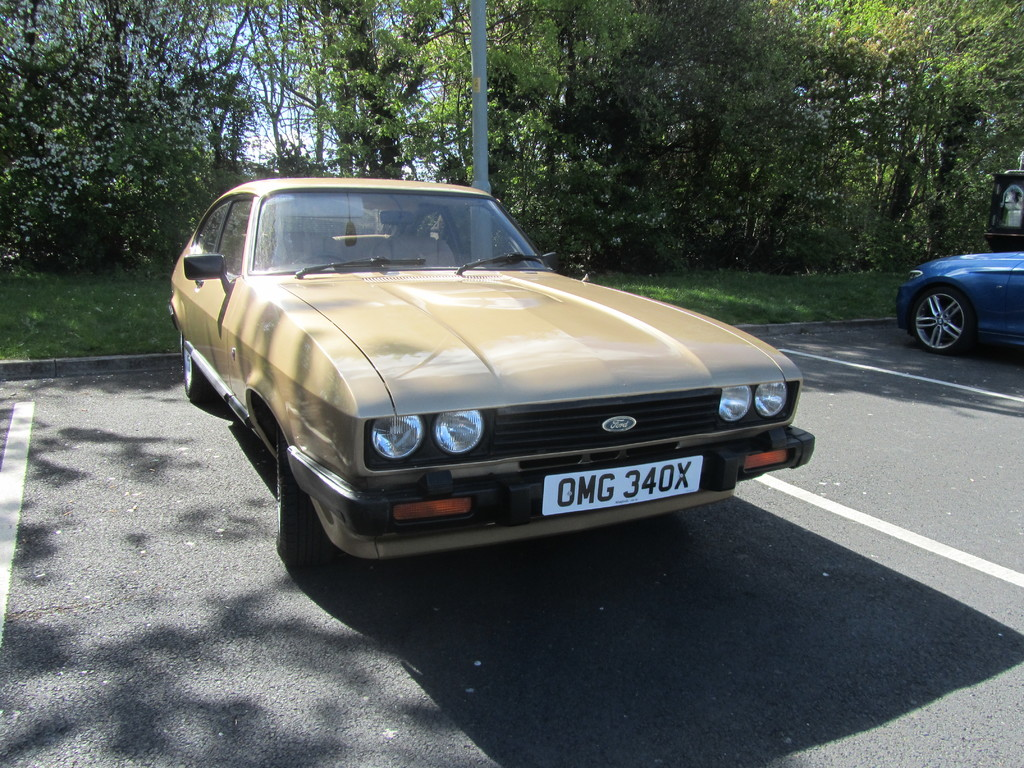Car: (170, 172, 808, 557), (893, 242, 1023, 356)
